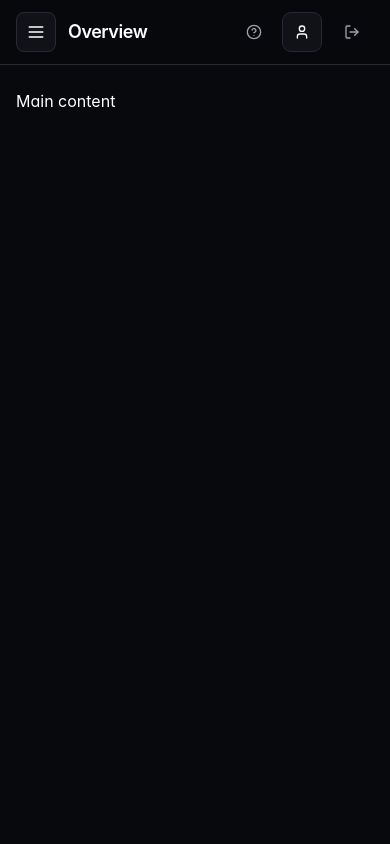
Test: FaceLens UI Foundation › renders AppShell with page title, sidebar links, and mobile drawer toggle
This screenshot has width=390, height=844.
expect the heading "Overview" is shown: met, box [68,18,147,46]
expect the text "Main content" is shown: met, box [16,91,115,111]
Click the button named "open navigation menu": (36,32) [16,12,56,52]
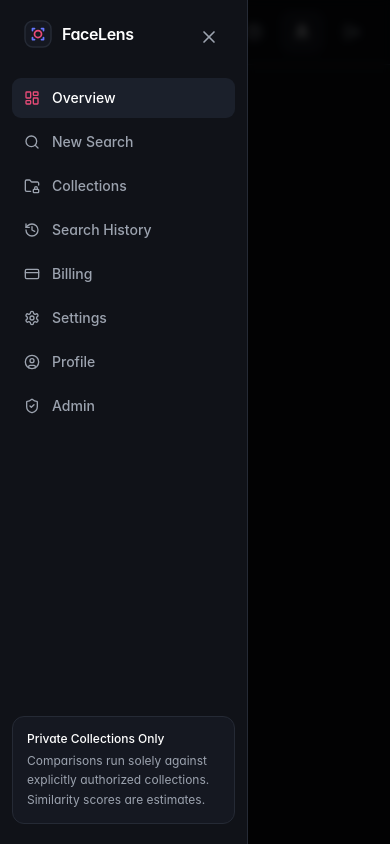
expect the dialog named "Navigation drawer" is shown: met
